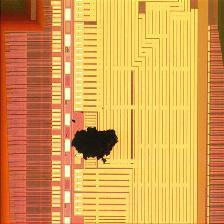PARTICLE: (72, 126, 121, 161)
